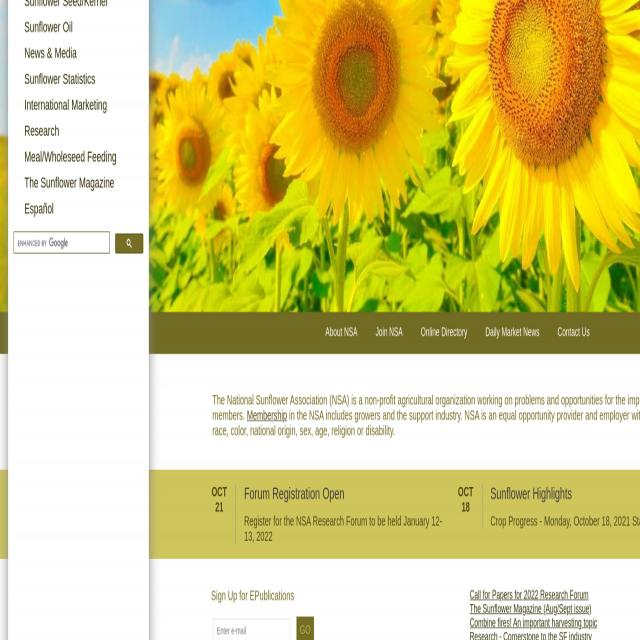button: (126, 238, 132, 248)
field: (18, 236, 104, 250)
